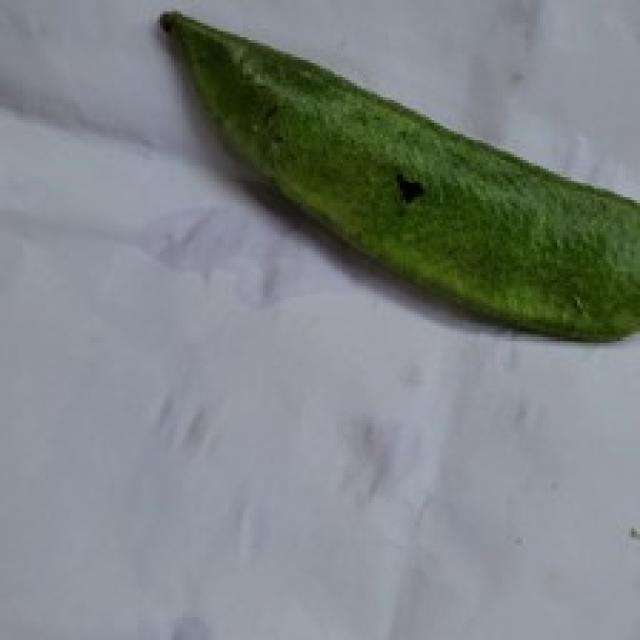Bean: (154, 6, 637, 346)
